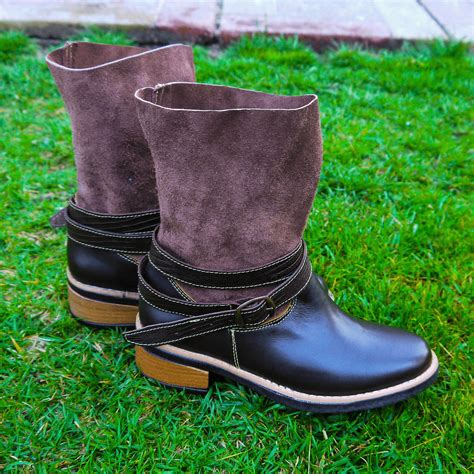cuero: (57, 207, 434, 402)
